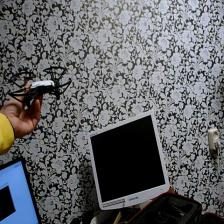drone: (5, 63, 74, 115)
